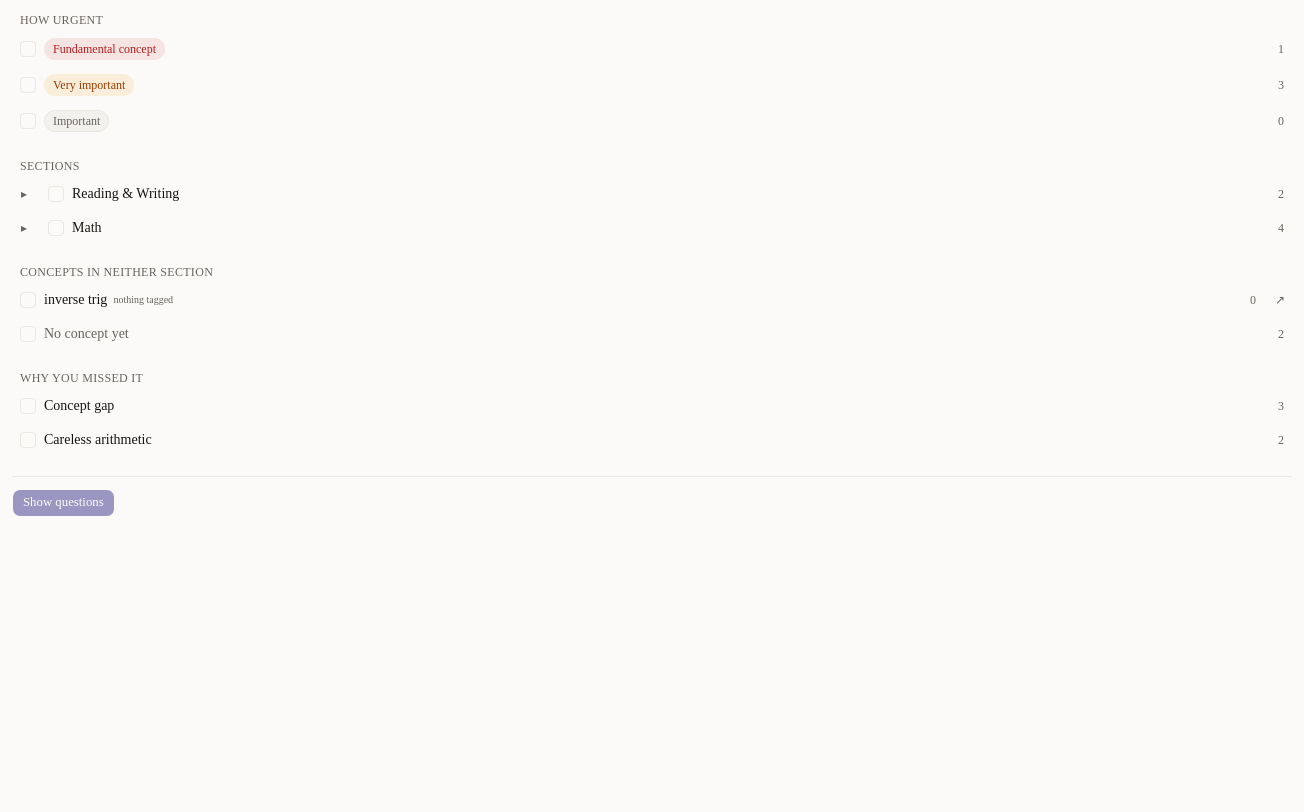
Test: Categories › puts each topic under the section it belongs to
Expected: the heading "How urgent" is shown, [20,13,103,27]
Click the button named "Expand Reading & Writing" at (24, 194), box [12,182,36,206]
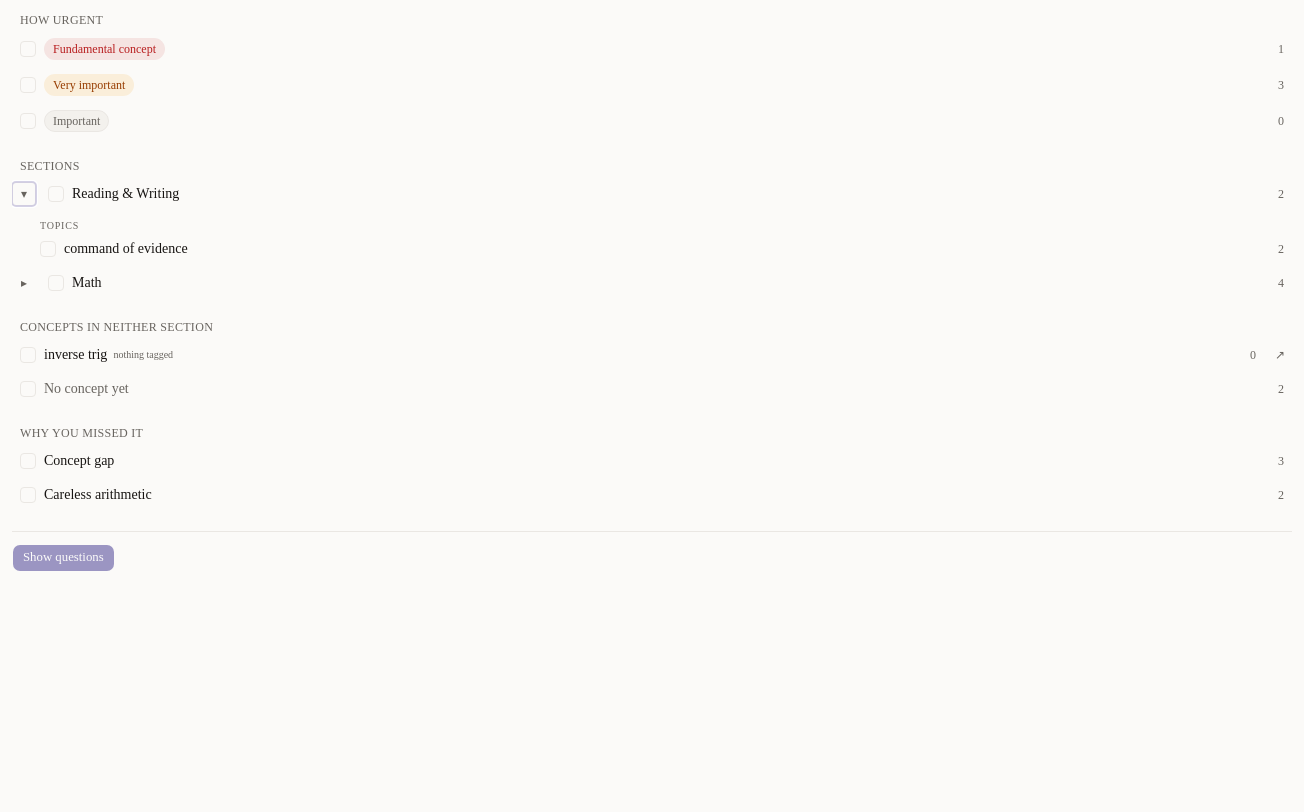
Result: the text "command of evidence" is shown at [64,241,188,256]
